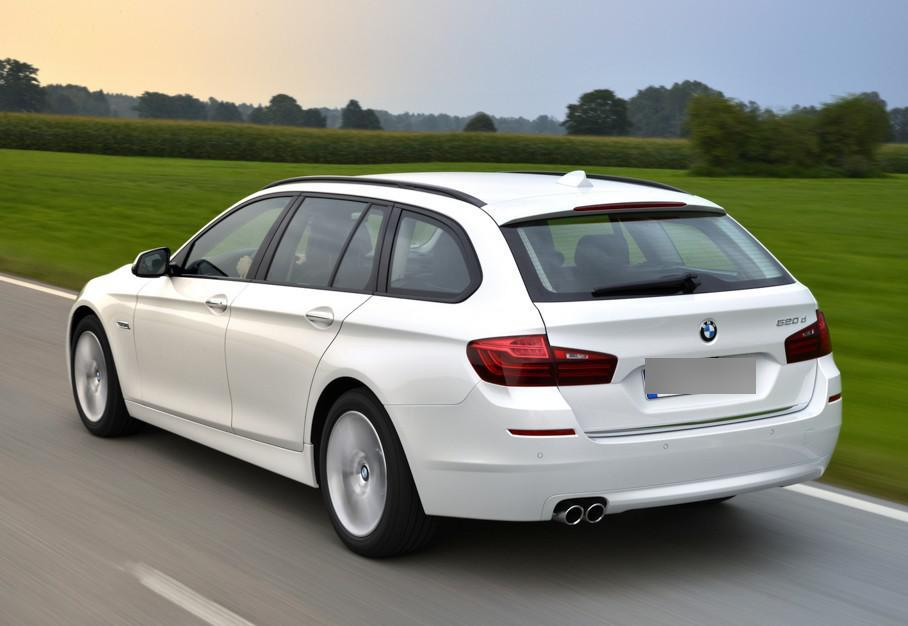Wagon: (67, 168, 846, 560)
